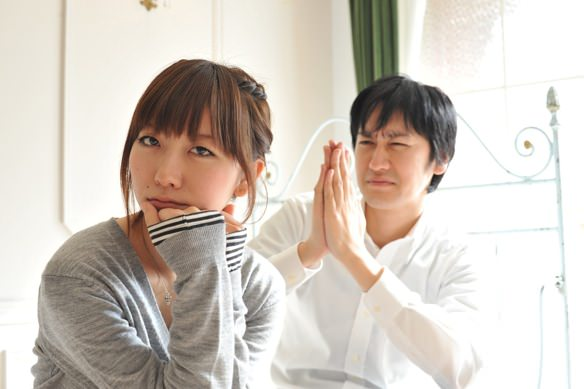face: (129, 94, 244, 212), (355, 102, 435, 209)
hand: (312, 140, 356, 256)
